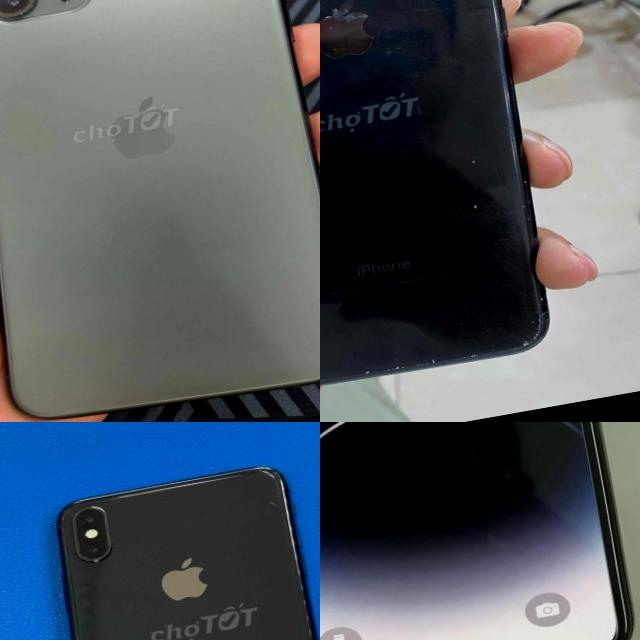gen_11: (0, 0, 320, 418)
gen_7_8: (320, 0, 571, 405)
gen_x_xs: (320, 422, 640, 640), (39, 461, 320, 640)
scratch: (320, 309, 560, 398), (320, 0, 381, 54), (0, 0, 96, 27), (508, 174, 540, 230), (462, 150, 484, 213), (259, 488, 299, 520), (74, 491, 127, 508), (82, 559, 120, 580), (524, 290, 551, 311), (82, 578, 112, 596), (54, 506, 76, 523), (157, 495, 175, 506)
